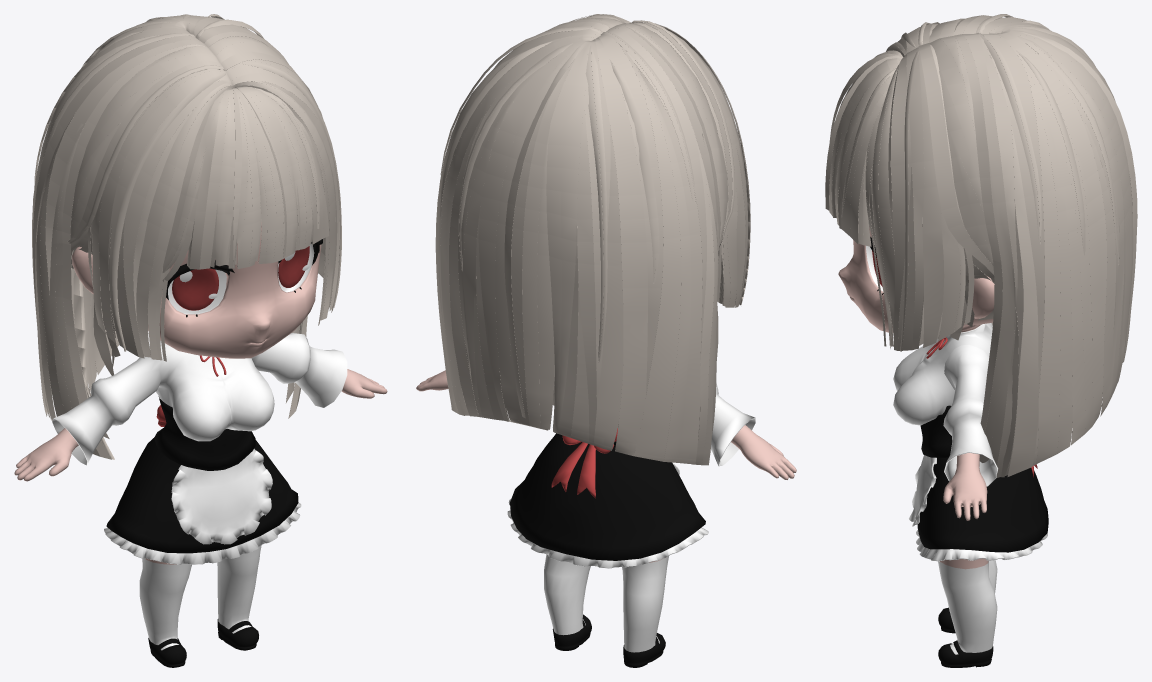
File: Maid4 (1).fbx
3 views of the same model, side by side, from view 1: azimuth 30°, elevation 25°; view 2: azimuth 150°, elevation 25°; view 3: azimuth 270°, elevation 25° (orthographic). The views are drawn at different scales.
Visible parts, largest first — view 1: Maid 4; view 2: Maid 4; view 3: Maid 4.
Part boxes in pixels (x1,y1,x2,y2): Maid 4: (14, 14, 387, 667); Maid 4: (416, 14, 796, 667); Maid 4: (825, 14, 1137, 667).
Bounding box in the file's own units: 82.77 × 132 × 60.52.
